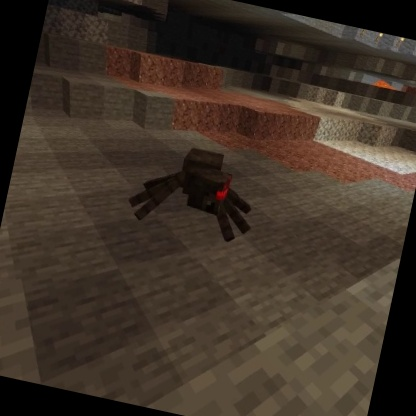spider: (120, 133, 267, 248)
